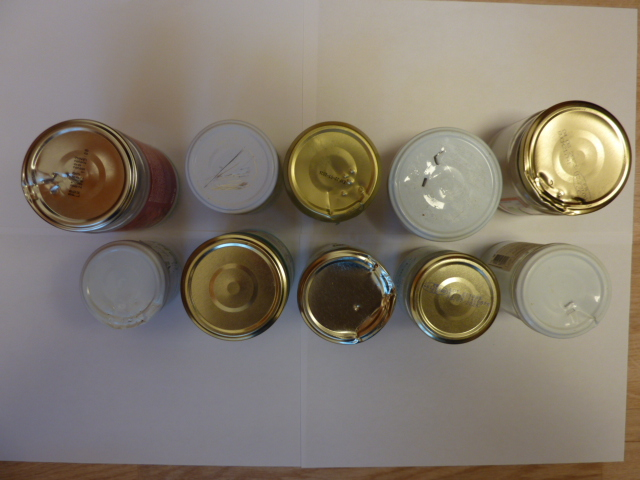damaged: (523, 100, 631, 215)
intact: (408, 254, 499, 344)
